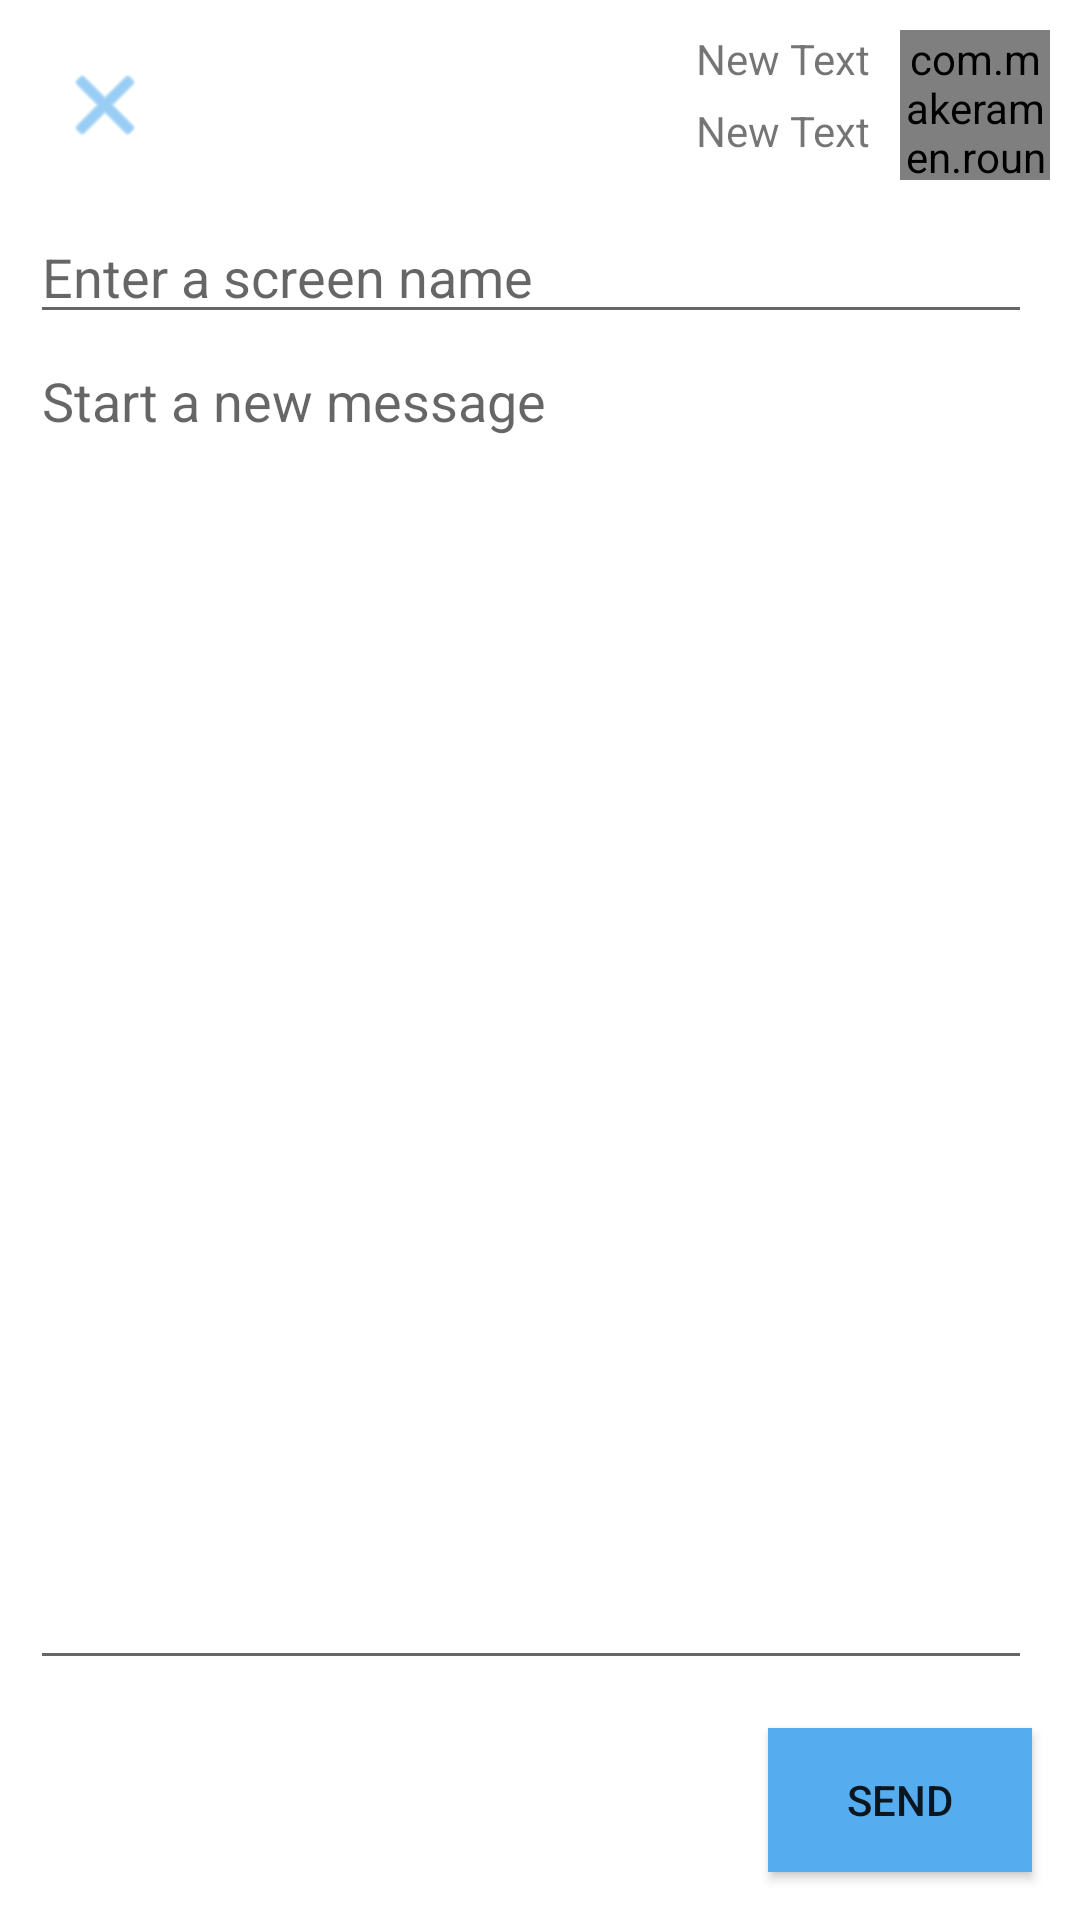

Named icons in this screenshot (1080*1920) and their bounding boxes, (x1, y1, x2, y2):
close clear cancel: (75, 75, 135, 135)
